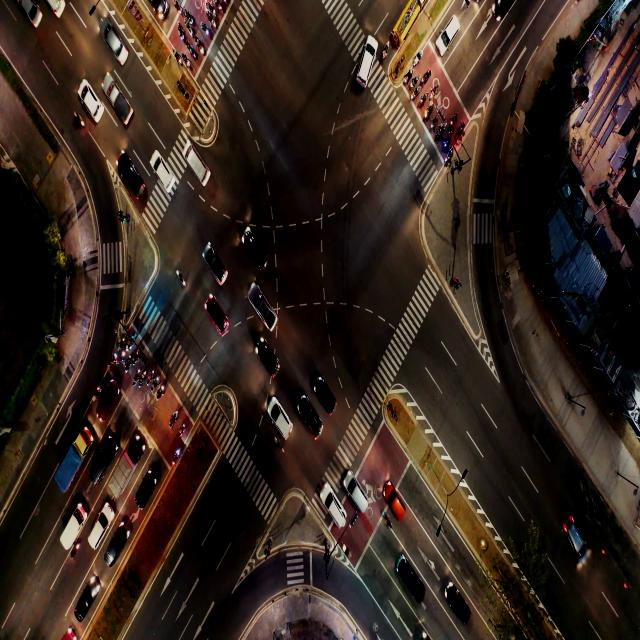bus: (399, 2, 418, 32)
car: (359, 27, 375, 85), (400, 562, 425, 595), (448, 585, 470, 620), (256, 344, 282, 373), (565, 516, 583, 556), (79, 87, 98, 120), (109, 30, 129, 60), (77, 579, 93, 614), (124, 165, 144, 192), (154, 154, 169, 188), (318, 385, 336, 413), (441, 18, 458, 47), (306, 408, 322, 438), (91, 520, 112, 542), (110, 534, 126, 562), (259, 294, 272, 327), (280, 405, 292, 440), (141, 476, 155, 506), (249, 240, 265, 266), (329, 497, 344, 521), (92, 460, 109, 481), (211, 305, 227, 327), (389, 492, 403, 517), (193, 150, 205, 178), (213, 254, 224, 281), (353, 484, 363, 512), (105, 394, 118, 414)
motorcycle: (74, 106, 83, 128), (177, 268, 186, 288), (342, 542, 352, 558), (382, 510, 391, 527), (170, 410, 178, 426), (196, 37, 204, 53), (276, 439, 284, 453), (93, 386, 101, 400), (173, 450, 181, 463), (180, 423, 188, 436), (184, 9, 192, 22), (447, 150, 454, 164), (124, 358, 131, 372), (442, 136, 450, 148), (426, 108, 434, 120), (147, 371, 153, 387), (133, 369, 139, 385), (458, 125, 464, 140), (140, 371, 146, 386), (178, 27, 184, 42), (158, 387, 166, 398), (419, 96, 426, 108), (384, 42, 390, 56), (413, 74, 420, 86), (407, 68, 413, 82), (133, 352, 140, 364), (175, 2, 182, 14), (438, 127, 446, 137), (152, 377, 158, 390), (186, 23, 192, 36), (422, 74, 428, 86), (110, 352, 116, 364), (202, 22, 208, 34), (417, 50, 422, 64), (183, 57, 190, 67), (119, 338, 125, 349), (207, 3, 214, 12), (432, 118, 438, 128), (414, 86, 420, 96), (119, 354, 125, 364), (175, 54, 181, 64), (189, 47, 195, 57), (451, 117, 455, 131), (128, 338, 133, 348), (210, 17, 214, 27), (220, 6, 224, 14), (432, 89, 436, 96)
truck: (109, 88, 130, 124), (117, 455, 134, 490), (64, 437, 78, 473), (71, 518, 79, 539)
